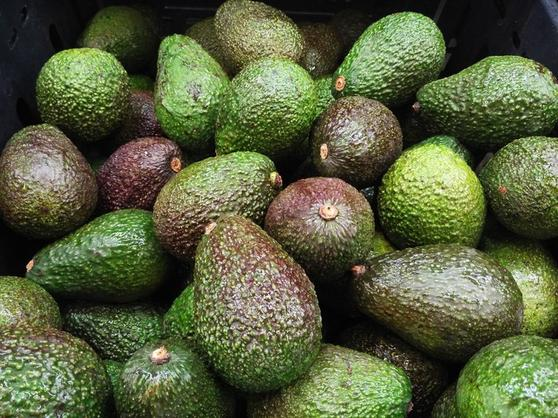avocado: (195, 217, 324, 387), (362, 245, 523, 347), (24, 208, 175, 296), (263, 162, 380, 263), (103, 338, 225, 418), (1, 327, 105, 417), (453, 335, 551, 418), (314, 94, 399, 175)
